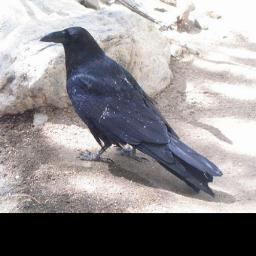Crow: (38, 24, 222, 199)
